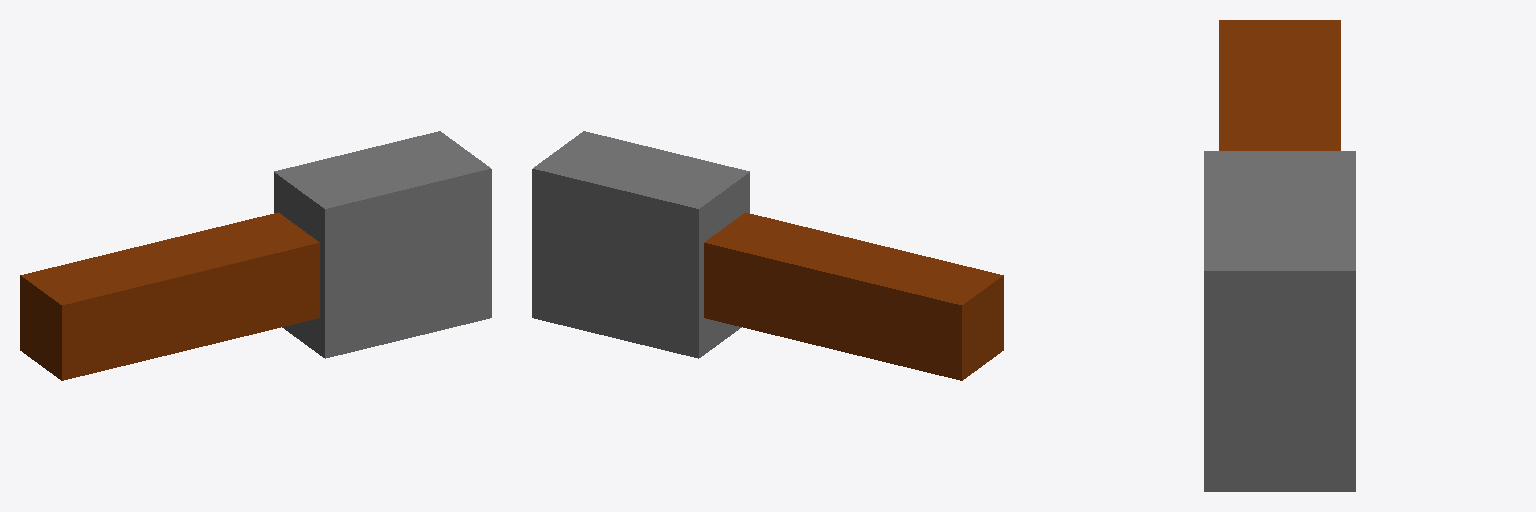
robot.urdf — handle_head:
<?xml version="1.0"?>
<robot name="handle_head">

  <link name="handle_head">
    <!-- Handle -->
    <visual>
              <origin xyz="0 0 0" rpy="0 0 0"/>
        <geometry>
          <box size="0.09557884737081193 0.026561451240168572 0.02668985381326073"/>
        </geometry>
        
      <material name="brown">
        <color rgba="0.55 0.27 0.07 1.0"/>
      </material>
    </visual>
    <collision>
              <origin xyz="0 0 0" rpy="0 0 0"/>
        <geometry>
          <box size="0.09557884737081193 0.026561451240168572 0.02668985381326073"/>
        </geometry>
        
    </collision>

    <!-- Head -->
    <visual>
              <origin xyz="0.07863724353321341 0 0" rpy="0 0 0"/>
        <geometry>
          <box size="0.061695639695614896 0.03294563500951061 0.05294333091053363"/>
        </geometry>
        
      <material name="gray">
        <color rgba="0.5 0.5 0.5 1.0"/>
      </material>
    </visual>
    <collision>
              <origin xyz="0.07863724353321341 0 0" rpy="0 0 0"/>
        <geometry>
          <box size="0.061695639695614896 0.03294563500951061 0.05294333091053363"/>
        </geometry>
        
    </collision>

    <inertial>
      <origin xyz="0.04665487999103155 0 0" rpy="0 0 0"/>
      <mass value="0.05855075713334284"/>
      <inertia ixx="1.4069838888341658e-05" iyy="0.00012604024353807518" izz="0.00012105460298497225" ixy="0" ixz="0" iyz="0"/>
    </inertial>
  </link>

</robot>

--- Facts derived from the render (not from the file) ---
The picture shows the robot from 3 angles, left to right: view 1: azimuth 30°, elevation 25°; view 2: azimuth 150°, elevation 25°; view 3: azimuth 270°, elevation 25°; orthographic projection.
Robot: handle_head — 1 links, 0 joints (none); root link handle_head; default pose: all joints at 0.
Visible links, largest first — view 1: handle_head; view 2: handle_head; view 3: handle_head.
Boxes of the visible links, x1,y1,x2,y2 form: handle_head: [20, 131, 491, 380]; handle_head: [532, 131, 1003, 380]; handle_head: [1204, 20, 1355, 491].
Size in the robot's own frame: 0.1573 by 0.0329 by 0.0529 metres.
Geometry: primitives only (box / cylinder / sphere), no mesh files.
